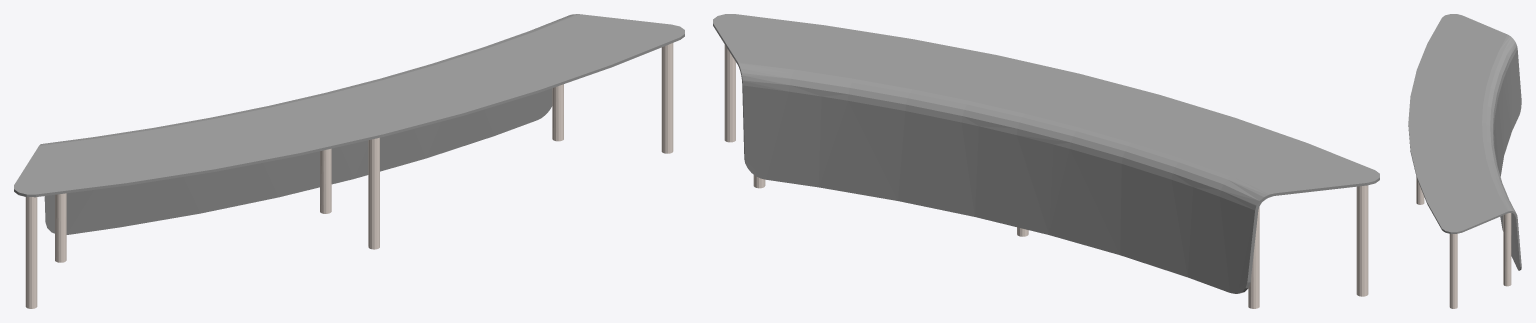
The model's file is tableCampfire.glb.
3 views of the same model, side by side, from view 1: azimuth 30°, elevation 25°; view 2: azimuth 150°, elevation 25°; view 3: azimuth 270°, elevation 25° (orthographic). The views are drawn at different scales.
Visible parts, largest first — view 1: 3MFMeshParent_12, 3MFMeshParent_15, 3MFMeshParent_11, 3MFMeshParent_14, 3MFMeshParent_9, 3MFMeshParent_10, 3MFMeshParent_13; view 2: 3MFMeshParent_12, 3MFMeshParent_15, 3MFMeshParent_11, 3MFMeshParent_9; view 3: 3MFMeshParent_12, 3MFMeshParent_11, 3MFMeshParent_13, 3MFMeshParent_14.
Part boxes in pixels (x1,y1,x2,y2): 3MFMeshParent_12: (14, 14, 684, 234); 3MFMeshParent_15: (25, 197, 37, 308); 3MFMeshParent_11: (661, 43, 673, 153); 3MFMeshParent_14: (368, 137, 379, 249); 3MFMeshParent_9: (55, 193, 66, 262); 3MFMeshParent_10: (320, 148, 331, 213); 3MFMeshParent_13: (552, 84, 563, 141); 3MFMeshParent_12: (713, 14, 1379, 293); 3MFMeshParent_15: (1356, 185, 1368, 296); 3MFMeshParent_11: (724, 44, 735, 142); 3MFMeshParent_9: (1248, 206, 1259, 308); 3MFMeshParent_12: (1408, 14, 1521, 270); 3MFMeshParent_11: (1449, 234, 1457, 308); 3MFMeshParent_13: (1503, 213, 1511, 286); 3MFMeshParent_14: (1416, 177, 1424, 204).
Size of the model in its own units: 4.26 by 0.7301 by 0.9361.
